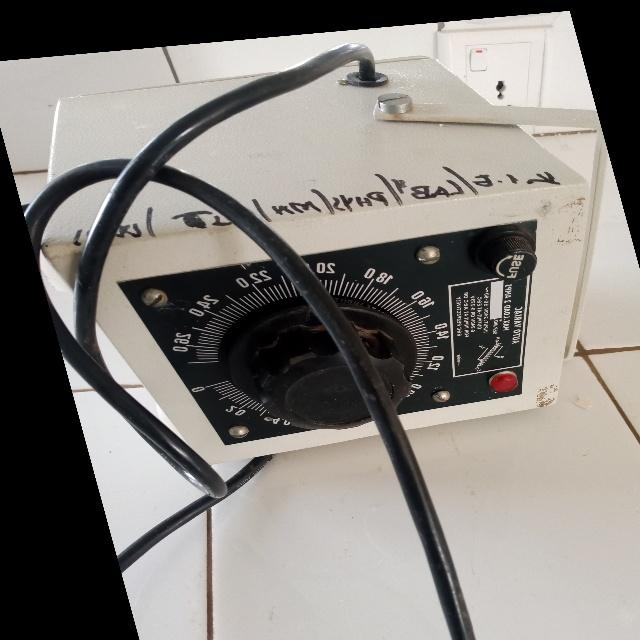Auto Variac AC Transformer 0-280 V: (4, 21, 640, 498)
